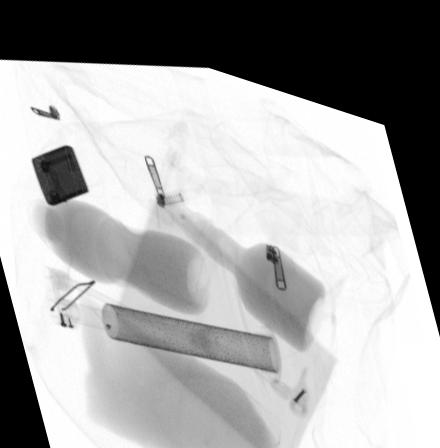Lighter: (30, 140, 89, 202)
